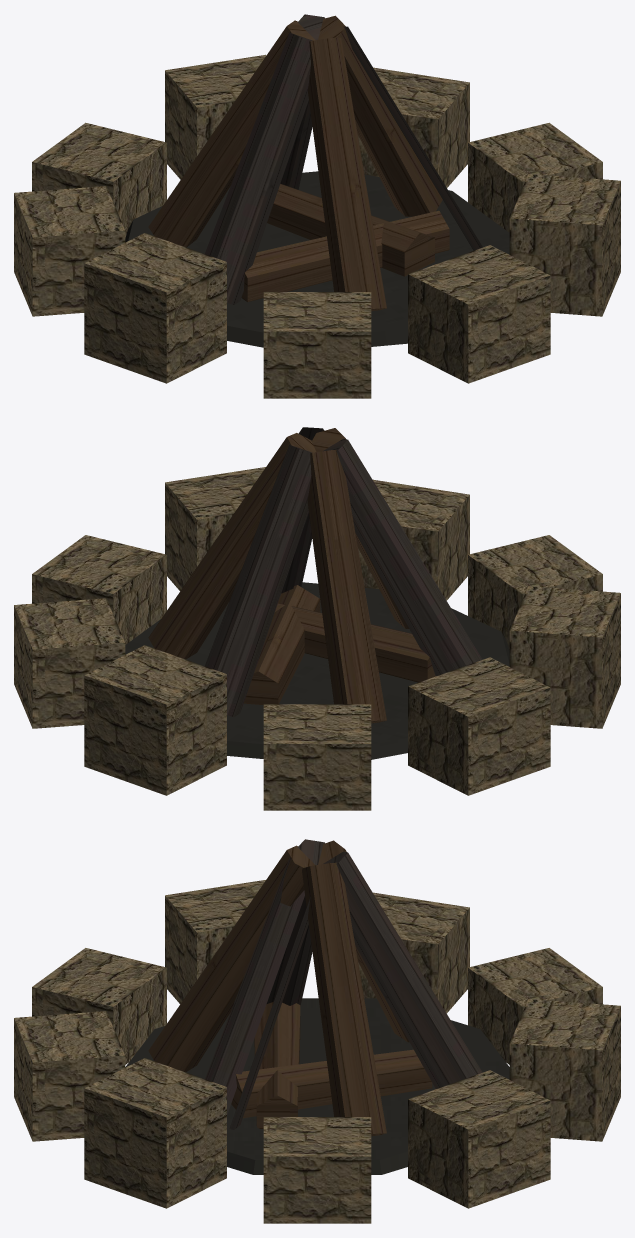
Rendered from campfire_logs_01.glb.
3 renders of one model, top to bottom at view 1: azimuth 30°, elevation 25°; view 2: azimuth 150°, elevation 25°; view 3: azimuth 270°, elevation 25°, orthographic.
Parts seen in each view (by area): view 1: campfire_logs_01; view 2: campfire_logs_01; view 3: campfire_logs_01.
Part boxes in pixels (x1,y1,x2,y2): campfire_logs_01: [14, 14, 620, 398]; campfire_logs_01: [14, 427, 620, 810]; campfire_logs_01: [14, 839, 620, 1223].
Bounding box in the file's own units: 1.78 × 0.8095 × 1.81.
4 materials, 4 textured.
